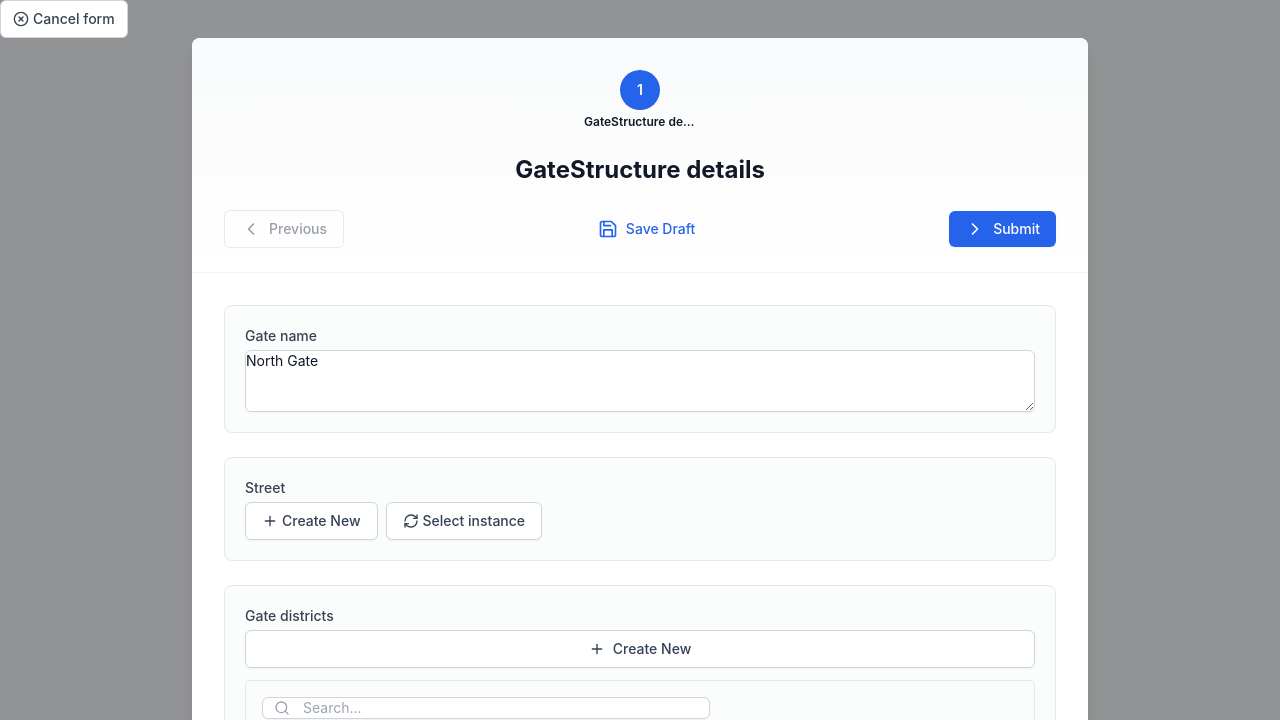
Test: Cancel a root form after its child forms saved entities (KNG-162) › a resumed draft pins its recorded entities again and Cancel still lists them
Check: the text "Gate name" is shown, box [245,327,317,344]
Click the button "Cancel form": click(64, 19) [0,0,128,38]
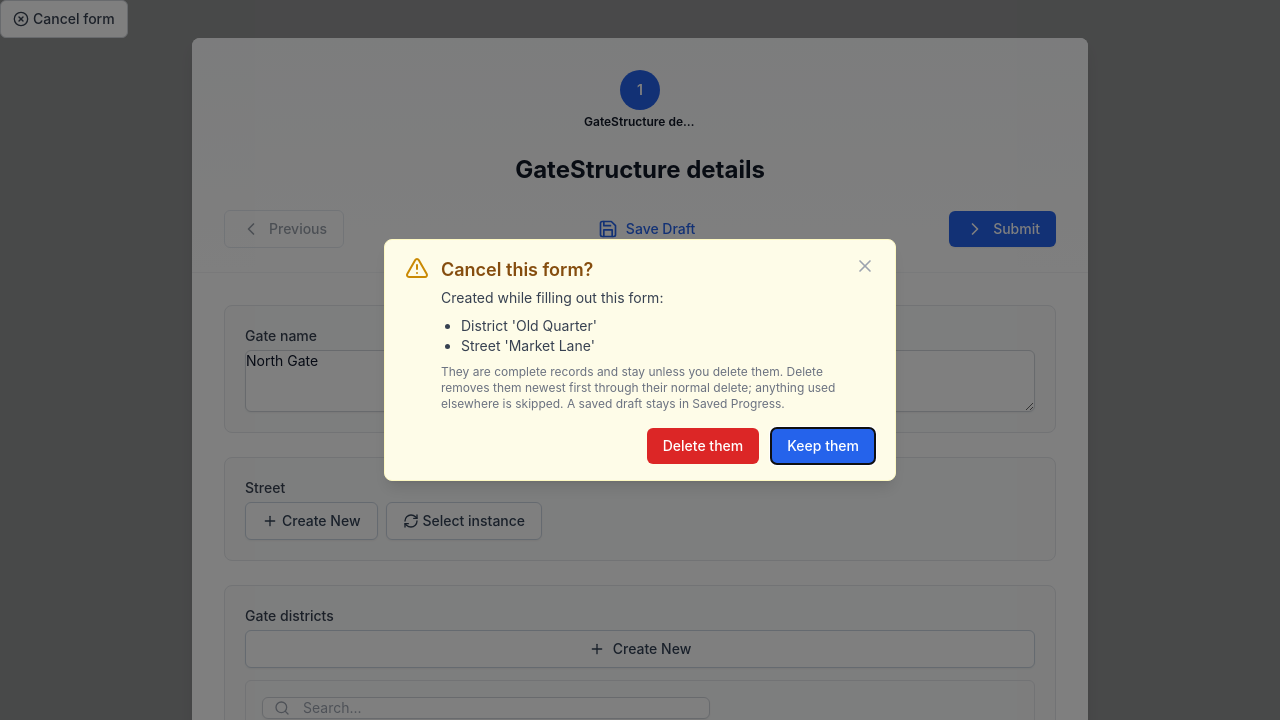
Check: the list item "Street 'Market Lane'" is shown, box [461,337,595,354]
Check: the list item "District 'Old Quarter'" is shown, box [461,317,597,334]
